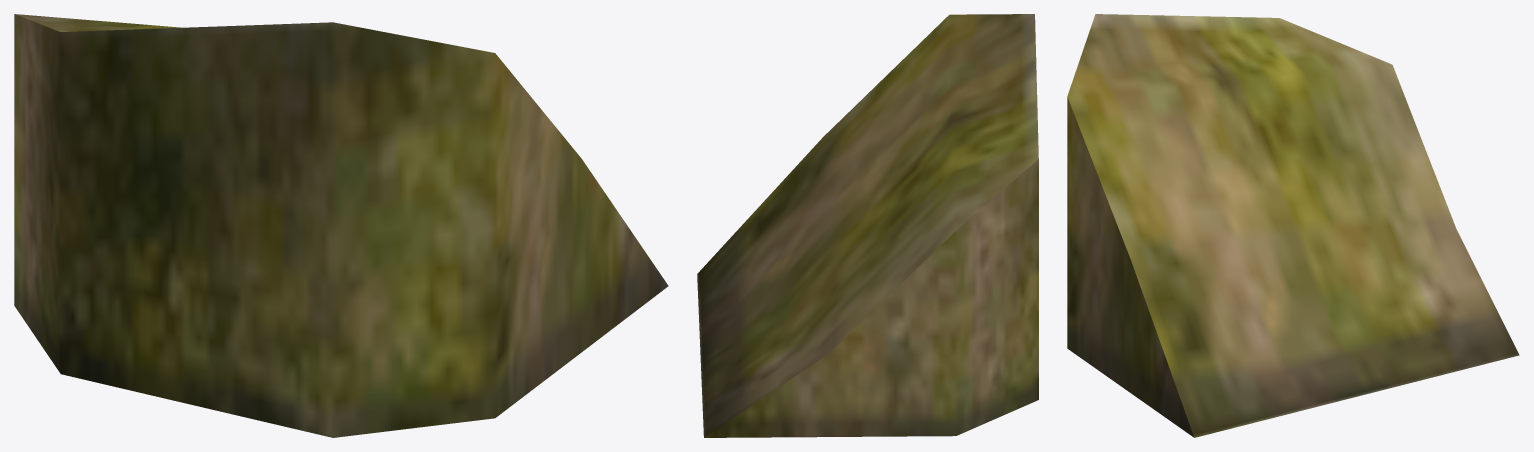
The model's file is OVERHILL_A_01_OBJECT215.fbx.
3 views of the same model, side by side, from view 1: azimuth 30°, elevation 25°; view 2: azimuth 150°, elevation 25°; view 3: azimuth 270°, elevation 25° (orthographic). The views are drawn at different scales.
Visible parts, largest first — view 1: OVERHILL_A_01_OBJECT215; view 2: OVERHILL_A_01_OBJECT215; view 3: OVERHILL_A_01_OBJECT215.
Boxes of the visible parts, x1,y1,x2,y2 form: OVERHILL_A_01_OBJECT215: (14,14,668,437); OVERHILL_A_01_OBJECT215: (697,14,1038,437); OVERHILL_A_01_OBJECT215: (1067,14,1519,437).
Bounding box in the file's own units: 10158 × 7387 × 10560.
1 material, 1 textured.
